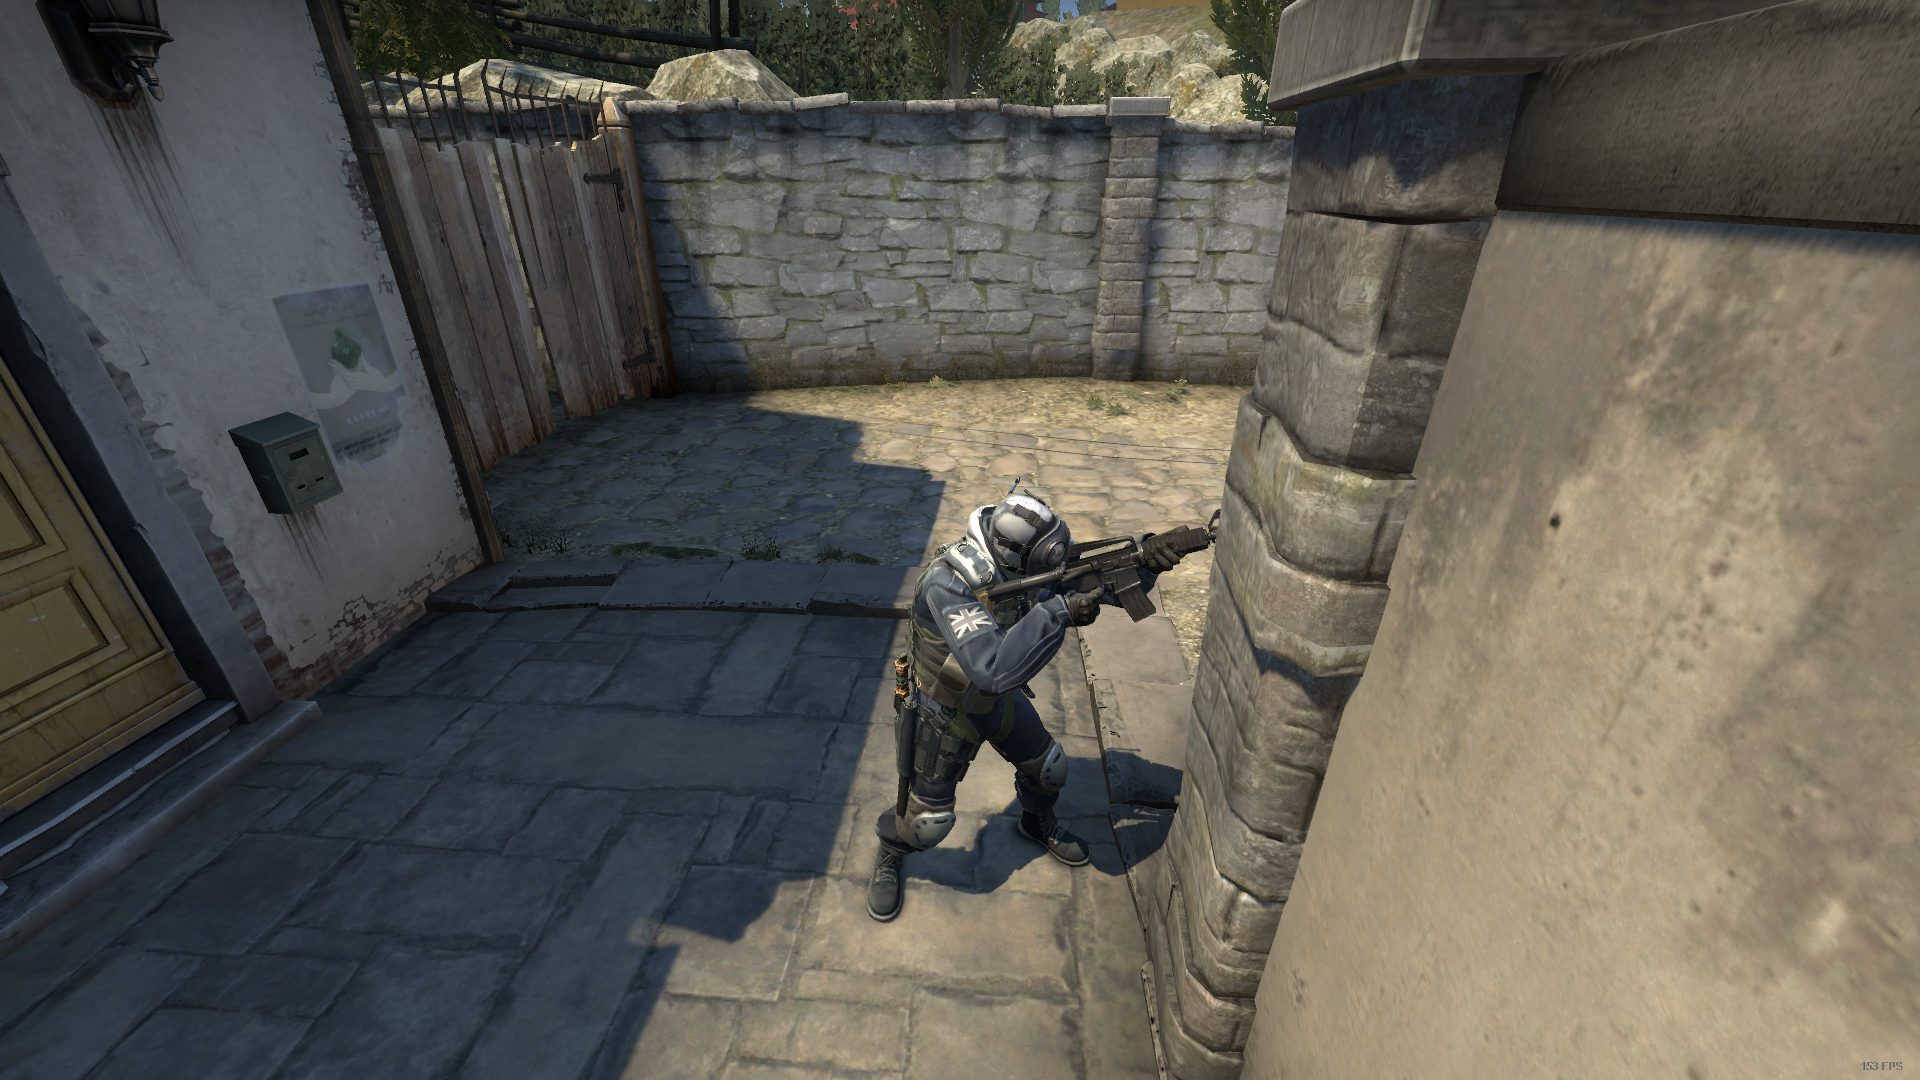ct: (874, 479, 1100, 909)
